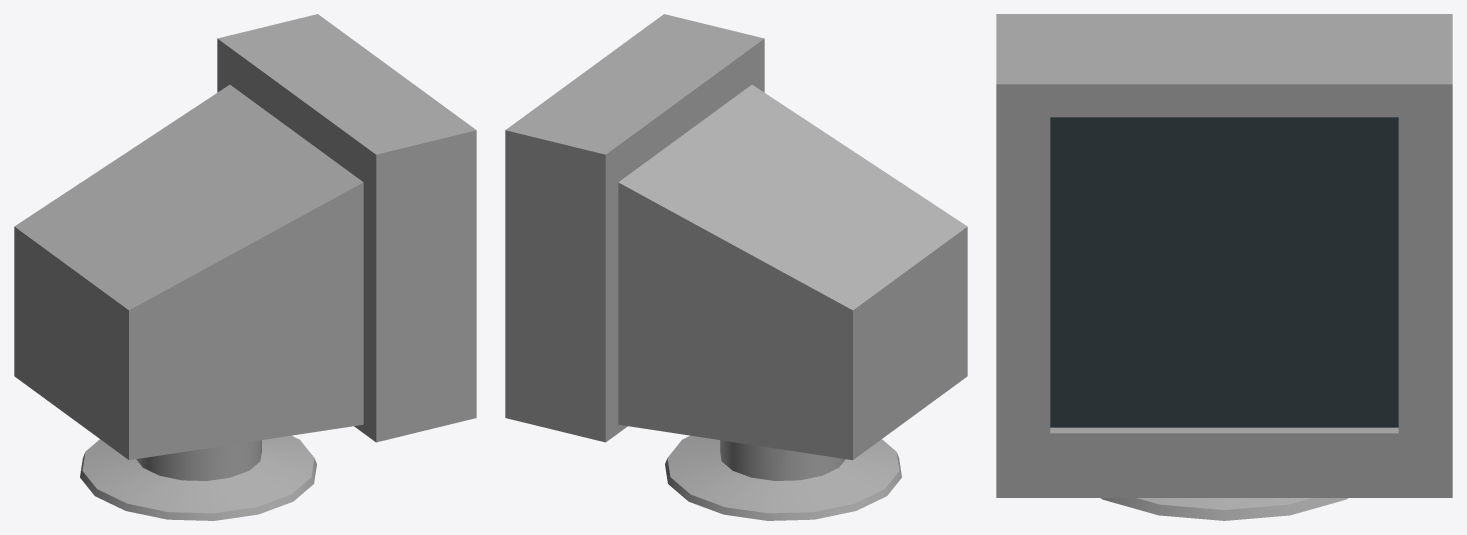
Rendered from monitor.fbx.
3 renders of one model, left to right at view 1: azimuth 30°, elevation 25°; view 2: azimuth 150°, elevation 25°; view 3: azimuth 270°, elevation 25°, orthographic. The views are drawn at different scales.
Parts seen in each view (by area): view 1: Cylinder; view 2: Cylinder; view 3: Cylinder.
Part boxes in pixels (x1,y1,x2,y2): Cylinder: (14, 14, 476, 520); Cylinder: (505, 14, 967, 520); Cylinder: (996, 14, 1452, 520).
Size of the model in its own units: 422 by 434 by 357.
Materials: 1 (1 with a texture image).
